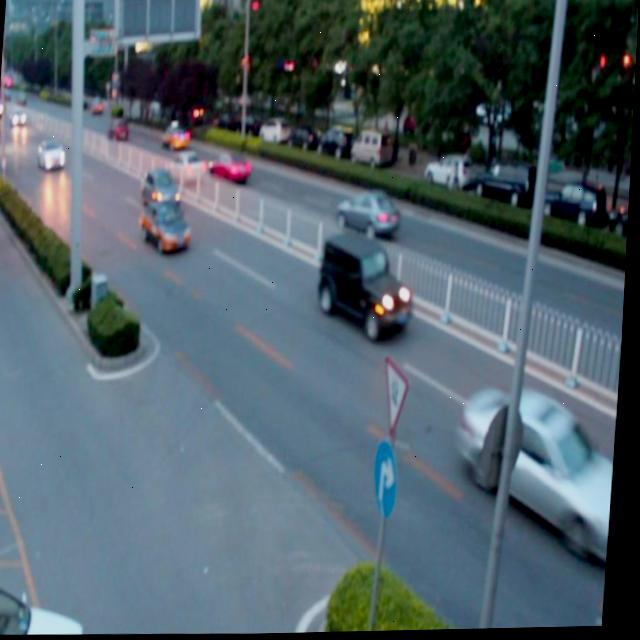car: (462, 385, 610, 553), (320, 235, 416, 333), (0, 577, 93, 636), (337, 190, 399, 239), (140, 204, 192, 255), (141, 170, 182, 210), (209, 152, 251, 186), (169, 154, 207, 182), (160, 128, 189, 150)
